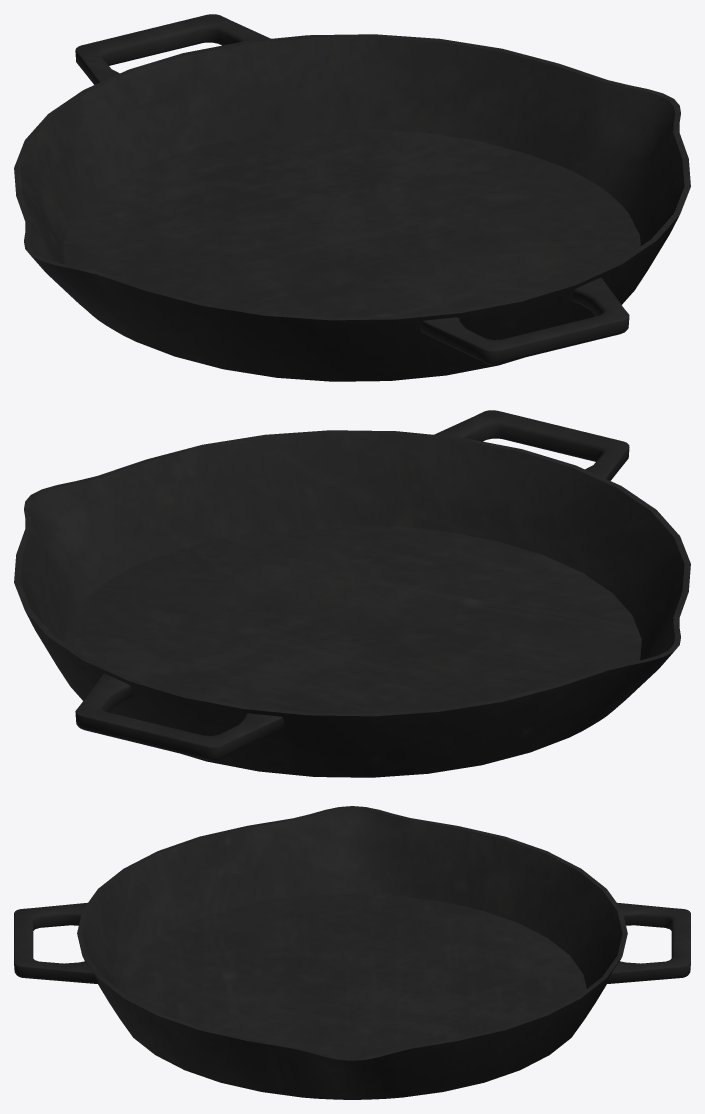
File: Prop_Kitchen_Pan_x6.fbx
The picture shows the model from 3 angles, top to bottom: view 1: azimuth 30°, elevation 25°; view 2: azimuth 150°, elevation 25°; view 3: azimuth 270°, elevation 25°; orthographic projection. The views are drawn at different scales.
Visible parts, largest first — view 1: Prop_Kitchen_Pan_x6; view 2: Prop_Kitchen_Pan_x6; view 3: Prop_Kitchen_Pan_x6.
Part boxes in pixels (left/top/right/bottom): Prop_Kitchen_Pan_x6: left=14, top=14, right=690, bottom=381; Prop_Kitchen_Pan_x6: left=14, top=410, right=690, bottom=777; Prop_Kitchen_Pan_x6: left=14, top=806, right=690, bottom=1099.
Size of the model in its own units: 18.87 by 2.28 by 21.18.
